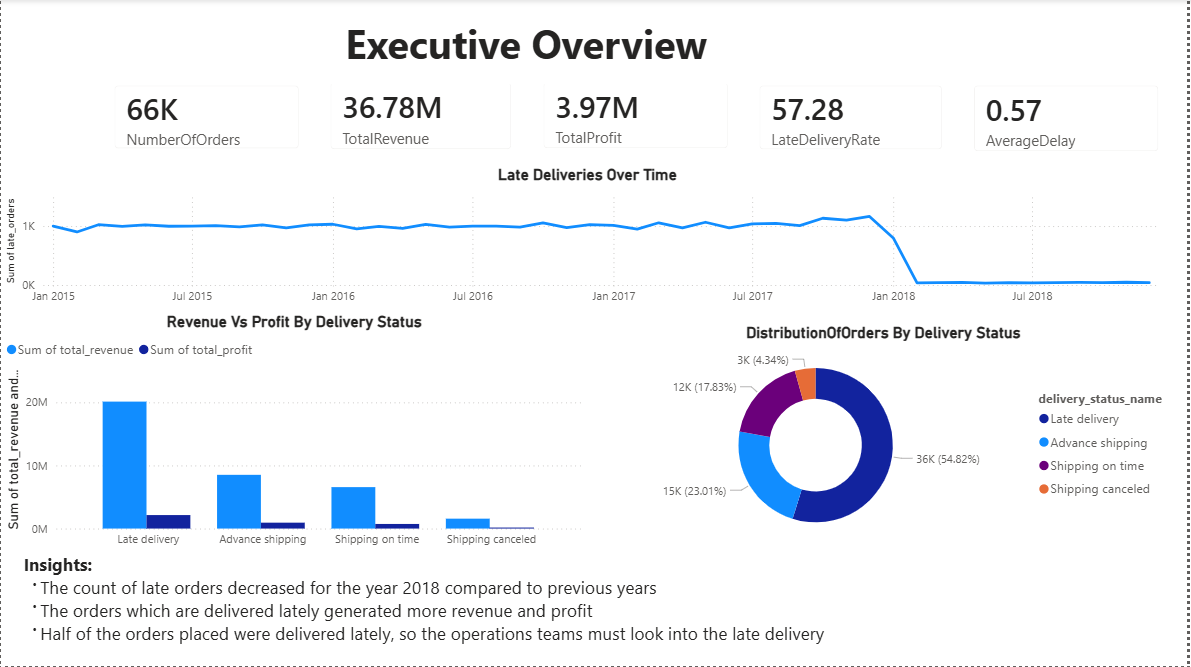

Layout of this report page (visuals, bound fields, positions):
{"tool":"powerbi","page":{"name":"Page 1","canvas":[1280,720],"ordinal":0},"visuals":[{"type":"cardVisual","fields":{"Data":["Sum(analytics fulfillment_overview.avg_delay)"]},"box":[1033.1,76.1,233.2,105.2],"z":0},{"type":"cardVisual","fields":{"Data":["Sum(analytics fulfillment_overview.late_delivery_rate)"]},"box":[801.5,76.1,231.5,103.6],"z":1000},{"type":"cardVisual","fields":{"Data":["Sum(analytics fulfillment_overview.total_orders)"]},"box":[105.2,76.1,233.2,102],"z":2000},{"type":"cardVisual","fields":{"Data":["Sum(analytics fulfillment_overview.total_profit)"]},"box":[568.3,72.9,233.2,105.2],"z":3000},{"type":"cardVisual","fields":{"Data":["Sum(analytics fulfillment_overview.total_revenue)"]},"box":[338.4,72.9,229.9,106.9],"z":4000},{"type":"lineChart","title":"Late Deliveries Over Time","fields":{"Y":["Sum(analytics late_delivery_trend.late_orders)"],"Category":["DateTable.Date.Variation.Date Hierarchy.Year","DateTable.Date.Variation.Date Hierarchy.Month"]},"box":[0,179.7,1266.2,158.7],"z":5000},{"type":"donutChart","title":"DistributionOfOrders By Delivery Status","fields":{"Category":["analytics delivery_status_distribution.delivery_status_name"],"Y":["Sum(analytics delivery_status_distribution.total_orders)"]},"box":[633.1,349.6,638.7,243.8],"z":6000},{"type":"clusteredColumnChart","title":"Revenue Vs Profit By Delivery Status","fields":{"Category":["analytics revenue_profit_summary.delivery_status_name"],"Y":["Sum(analytics revenue_profit_summary.total_revenue)","Sum(analytics revenue_profit_summary.total_profit)"]},"box":[0,338.3,633.1,275.9],"z":7000},{"type":"textbox","box":[18.9,593.4,1247.3,126.6],"z":8000},{"type":"textbox","box":[100.4,13,932.7,79.3],"z":9000}]}

Visuals, with their boxes in screenshot pixels (x1, y1, x2, y2), scaled from the page's 1280x720 canvas onto the 1191x667 screenshot:
cardVisual - Sum(analytics fulfillment_overview.avg_delay): <box>961,70,1178,168</box>
cardVisual - Sum(analytics fulfillment_overview.late_delivery_rate): <box>746,70,961,166</box>
cardVisual - Sum(analytics fulfillment_overview.total_orders): <box>98,70,315,165</box>
cardVisual - Sum(analytics fulfillment_overview.total_profit): <box>529,68,746,165</box>
cardVisual - Sum(analytics fulfillment_overview.total_revenue): <box>315,68,529,167</box>
"Late Deliveries Over Time" lineChart: <box>0,166,1178,313</box>
"DistributionOfOrders By Delivery Status" donutChart: <box>589,324,1183,550</box>
"Revenue Vs Profit By Delivery Status" clusteredColumnChart: <box>0,313,589,569</box>
textbox: <box>18,550,1178,666</box>
textbox: <box>93,12,961,86</box>
